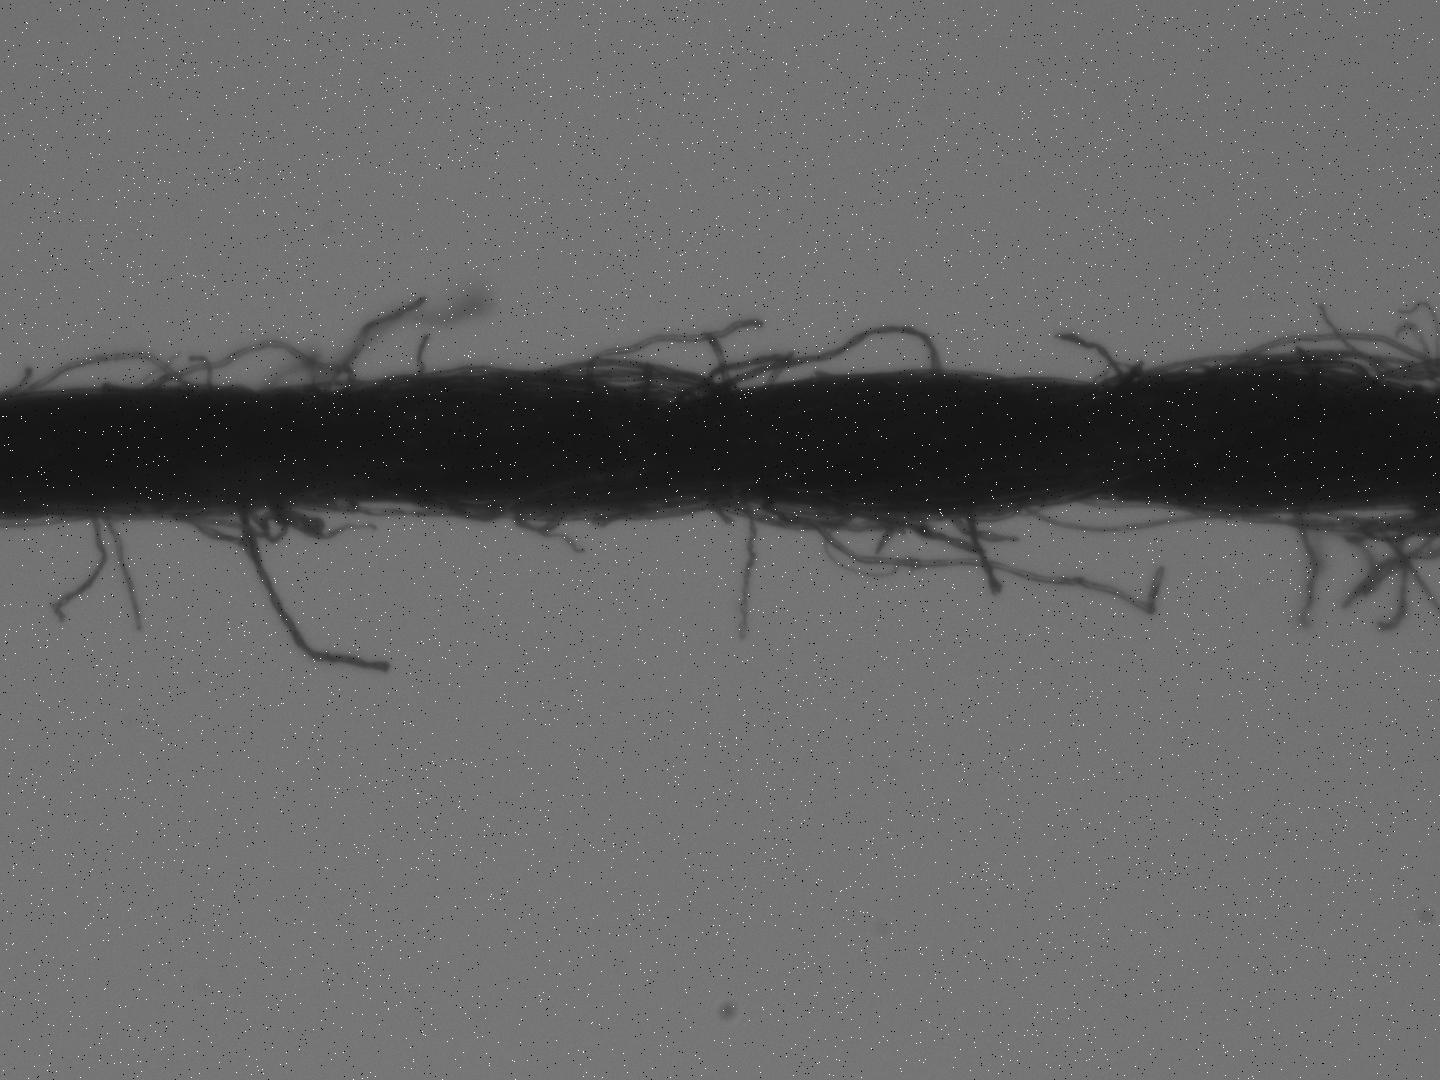loop_fiber: (708, 321, 941, 394), (149, 344, 355, 390), (20, 349, 194, 394), (1025, 499, 1218, 534), (172, 503, 283, 538), (730, 503, 857, 533), (696, 354, 782, 395), (1222, 355, 1366, 379), (507, 505, 567, 534)
protruding_fiber: (238, 504, 392, 678), (321, 293, 423, 387), (49, 512, 105, 624), (1051, 328, 1137, 382), (107, 514, 142, 631), (736, 500, 757, 635), (964, 508, 997, 593), (415, 336, 433, 371)
